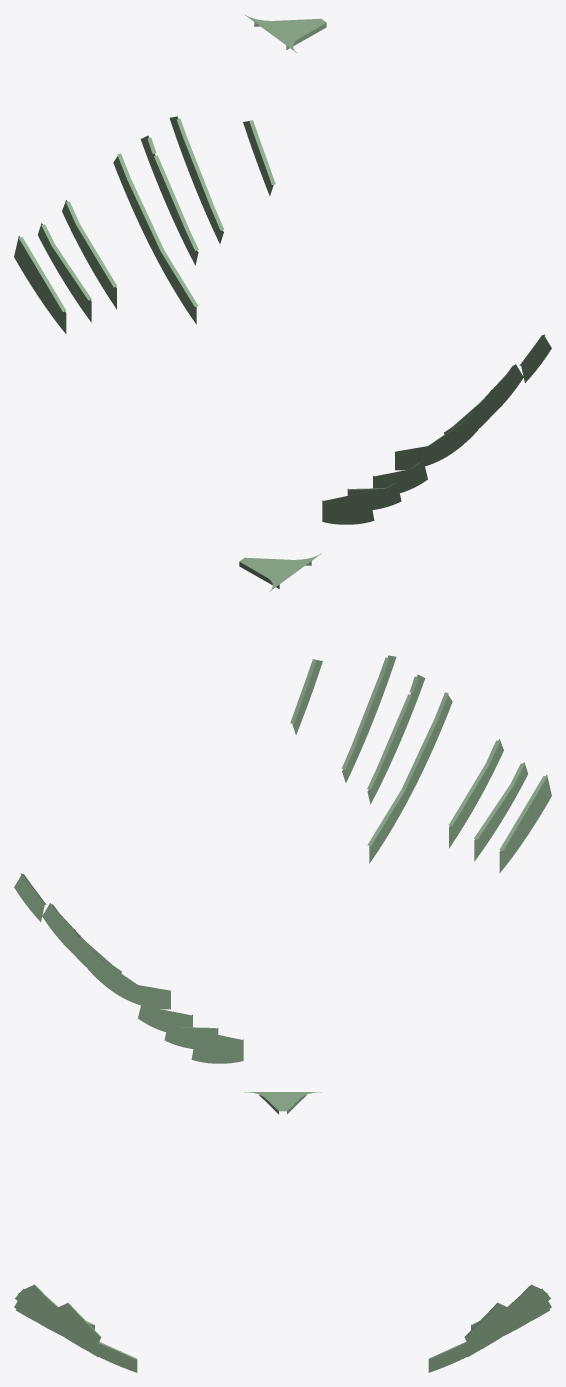
The model's file is FORE_PEAK_TK.glb.
3 views of the same model, one above another, from view 1: azimuth 30°, elevation 25°; view 2: azimuth 150°, elevation 25°; view 3: azimuth 270°, elevation 25° (orthographic). The views are drawn at different scales.
Visible parts, largest first — view 1: PL_OuterShellBracketxFPTS_035001-12_NVA_1993, PL_OuterShellBracketxFPTP_035001-12_NVA_1993, PL_OuterShellBracketxFPTS_028001-12_NVA_1993, PL_OuterShellBracketxFPTP_032001-12_NVA_1993, PL_OuterShellBracketxFPTP_034001-12_NVA_1993, PL_OuterShellBracketxFPTS_024001-12_NVA_1993, PL_OuterShellBracketxFPTS_031001-12_NVA_1993, PL_OuterShellBracketxFPTP_029001-12_NVA_1993, PL_OuterShellBracketxFPTP_025001-12_NVA_1993, PL_OuterShellBracketxFPTS_022001-12_NVA_1993, PL_OuterShellBracketxFPTP_030001-12_NVA_1993, PL_OuterShellBracketxFPTP_023001-12_NVA_1993; view 2: PL_OuterShellBracketxFPTP_035001-12_NVA_1993, PL_OuterShellBracketxFPTS_035001-12_NVA_1993, PL_OuterShellBracketxFPTP_029001-12_NVA_1993, PL_OuterShellBracketxFPTS_031001-12_NVA_1993, PL_OuterShellBracketxFPTS_032001-12_NVA_1993, PL_OuterShellBracketxFPTP_030001-12_NVA_1993, PL_OuterShellBracketxFPTP_032001-12_NVA_1993, PL_OuterShellBracketxFPTS_028001-12_NVA_1993, PL_OuterShellBracketxFPTS_026001-12_NVA_1993, PL_OuterShellBracketxFPTP_021001-12_NVA_1993, PL_OuterShellBracketxFPTS_024001-12_NVA_1993, PL_OuterShellBracketxFPTS_025001-12_NVA_1993; view 3: PL_OuterShellBracketxFPTP_021001-12_NVA_1993, PL_OuterShellBracketxFPTS_022001-12_NVA_1993, PL_OuterShellBracketxFPTP_023001-12_NVA_1993, PL_OuterShellBracketxFPTS_025001-12_NVA_1993, PL_OuterShellBracketxFPTP_030001-12_NVA_1993, PL_OuterShellBracketxFPTS_024001-12_NVA_1993.
Boxes of the visible parts, x1,y1,x2,y2 form: PL_OuterShellBracketxFPTS_035001-12_NVA_1993: (322,491,374,524); PL_OuterShellBracketxFPTP_035001-12_NVA_1993: (14,236,66,333); PL_OuterShellBracketxFPTS_028001-12_NVA_1993: (429,423,467,463); PL_OuterShellBracketxFPTP_032001-12_NVA_1993: (74,227,116,309); PL_OuterShellBracketxFPTP_034001-12_NVA_1993: (50,248,91,322); PL_OuterShellBracketxFPTS_024001-12_NVA_1993: (395,446,432,470); PL_OuterShellBracketxFPTS_031001-12_NVA_1993: (373,469,415,492); PL_OuterShellBracketxFPTP_029001-12_NVA_1993: (124,182,161,263); PL_OuterShellBracketxFPTP_025001-12_NVA_1993: (150,158,186,242); PL_OuterShellBracketxFPTS_022001-12_NVA_1993: (521,335,551,382); PL_OuterShellBracketxFPTP_030001-12_NVA_1993: (159,254,196,324); PL_OuterShellBracketxFPTP_023001-12_NVA_1993: (177,138,211,218); PL_OuterShellBracketxFPTP_035001-12_NVA_1993: (191,1030,243,1063); PL_OuterShellBracketxFPTS_035001-12_NVA_1993: (499,775,551,872); PL_OuterShellBracketxFPTP_029001-12_NVA_1993: (98,962,136,1002); PL_OuterShellBracketxFPTS_031001-12_NVA_1993: (449,766,491,848); PL_OuterShellBracketxFPTS_032001-12_NVA_1993: (474,787,515,861); PL_OuterShellBracketxFPTP_030001-12_NVA_1993: (133,985,170,1009); PL_OuterShellBracketxFPTP_032001-12_NVA_1993: (150,1008,192,1031); PL_OuterShellBracketxFPTS_028001-12_NVA_1993: (404,721,441,802); PL_OuterShellBracketxFPTS_026001-12_NVA_1993: (379,697,415,781); PL_OuterShellBracketxFPTP_021001-12_NVA_1993: (14,874,44,921); PL_OuterShellBracketxFPTS_024001-12_NVA_1993: (369,793,406,863); PL_OuterShellBracketxFPTS_025001-12_NVA_1993: (354,677,388,757); PL_OuterShellBracketxFPTP_021001-12_NVA_1993: (465,1303,509,1348); PL_OuterShellBracketxFPTS_022001-12_NVA_1993: (56,1303,100,1348); PL_OuterShellBracketxFPTP_023001-12_NVA_1993: (482,1296,530,1343); PL_OuterShellBracketxFPTS_025001-12_NVA_1993: (35,1296,83,1343); PL_OuterShellBracketxFPTP_030001-12_NVA_1993: (428,1344,483,1372); PL_OuterShellBracketxFPTS_024001-12_NVA_1993: (82,1344,137,1372).
Size of the model in its own units: 6.73 by 11.66 by 20.59.
